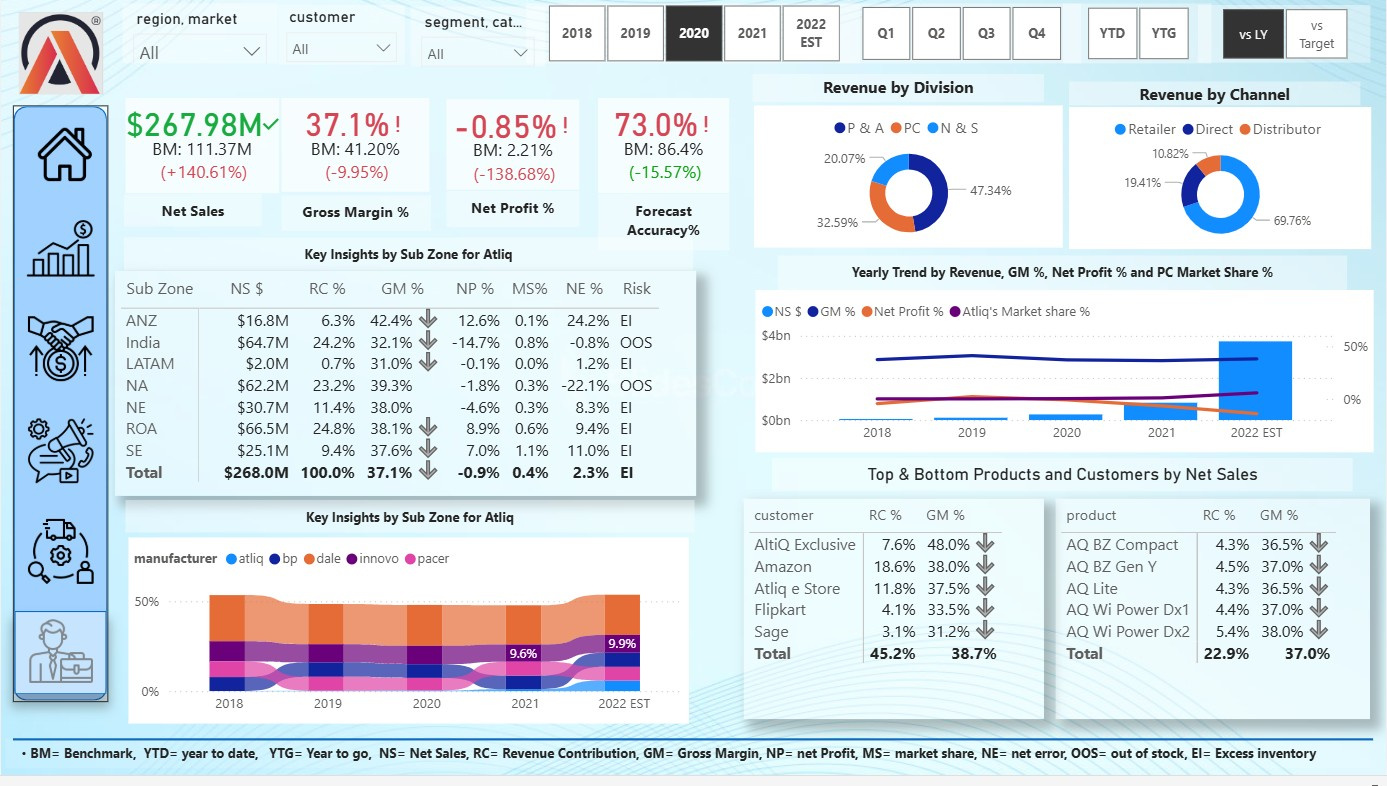

What the dashboard file says about the page in this screenshot:
{"tool":"powerbi","page":{"name":"Executive View","canvas":[1280,720],"ordinal":7},"visuals":[{"type":"pivotTable","fields":{"Rows":["sub_zone.sub_zone"],"Values":["Key Measures.NS $","Key Measures.RC %","Key Measures.GM %","Key Measures.Net Profit %","Key Measures.Atliq's Market share %","Key Measures.Net Error %","Key Measures.Risk"]},"box":[105.5,253.6,537.1,207.9],"z":0},{"type":"slicer","fields":{"Values":["fiscal_year.FY_description"]},"box":[485.1,6.3,308.7,55.1],"z":1000},{"type":"slicer","fields":{"Values":["dim_date.fy_quarter"]},"box":[774.9,6.3,223.7,55.1],"z":2000},{"type":"slicer","fields":{"Values":["dim_date.YTD_YTG"]},"box":[981.3,6.3,137,55.1],"z":3000},{"type":"pivotTable","fields":{"Rows":["dim_customer.customer"],"Values":["Key Measures.RC %","Key Measures.GM %"]},"box":[686.7,465,277.1,204.1],"z":4000},{"type":"pivotTable","fields":{"Rows":["dim_product.product"],"Values":["Key Measures.RC %","Key Measures.GM %"]},"box":[974.6,465,290.6,204.1],"z":5000},{"type":"slicer","fields":{"Values":["dim_market.region","dim_market.market"]},"box":[111.8,6.3,143.3,55.1],"z":6000},{"type":"slicer","fields":{"Values":["dim_product.segment","dim_product.category"]},"box":[378,9.5,124.4,55.1],"z":7000},{"type":"slicer","fields":{"Values":["dim_customer.customer"]},"box":[256.7,7.9,116.6,55.1],"z":8000},{"type":"card","fields":{"Values":["Key Measures.Top /Bottom n Title"]},"box":[712.9,427.3,536.7,30.4],"z":9000},{"type":"textbox","box":[113.4,223.7,526.1,29.9],"z":10000},{"type":"image","box":[11,9.5,88.2,86.6],"z":11000},{"type":"shape","box":[11,100.8,88.2,551.3],"z":12000},{"type":"image","box":[17.7,116.6,81.9,59.9],"z":13000},{"type":"image","box":[15.8,196.9,80.3,72.5],"z":14000},{"type":"image","box":[15.8,289.8,80.3,72.5],"z":15000},{"type":"image","box":[15.8,384.3,80.3,72.5],"z":16000},{"type":"image","box":[15.8,477.2,80.3,72.5],"z":17000},{"type":"image","box":[15.8,570.2,80.3,70.9],"z":18000},{"type":"shape","box":[12.2,569.1,85.1,77],"z":19000},{"type":"kpi","fields":{"TrendLine":["dim_date.fiscal_year"],"Indicator":["Key Measures.GM %"],"Goal":["Key Measures.GM % BM"]},"box":[259.5,94.6,136.5,86.5],"z":20000},{"type":"kpi","fields":{"TrendLine":["dim_date.fiscal_year"],"Indicator":["Key Measures.Net Profit %"],"Goal":["Key Measures.Net Profit % BM"]},"box":[411.1,96.1,122.9,83.5],"z":21000},{"type":"textbox","box":[113.4,182.7,127.6,29.9],"z":22000},{"type":"textbox","box":[411.1,179.6,122.9,33.1],"z":23000},{"type":"textbox","box":[259.5,183.8,137.9,32.4],"z":24000},{"type":"kpi","fields":{"Indicator":["Key Measures.NS $"],"TrendLine":["dim_date.fiscal_year"],"Goal":["Key Measures.NS $ BM"]},"box":[114.9,94.6,141.9,87.9],"z":25000},{"type":"slicer","fields":{"Values":["Set BM.Benchmarks"]},"box":[1105.7,7.9,159.1,53.6],"z":26000},{"type":"cardVisual","fields":{"Data":["Key Measures.BM blank message"]},"box":[168.1,66.8,388.9,32.4],"z":27000},{"type":"kpi","fields":{"TrendLine":["dim_date.fiscal_year"],"Indicator":["Key Measures.Forecast Accuracy %"],"Goal":["Key Measures.Forecast Accuracy % LY"]},"box":[551.3,94.5,121.3,88.2],"z":28000},{"type":"textbox","box":[551.3,182.7,121.3,52],"z":29000},{"type":"donutChart","fields":{"Category":["dim_product.division"],"Y":["Key Measures.NS $"]},"box":[695.9,100.9,285.6,131.6],"z":30000},{"type":"textbox","box":[693.9,72.6,269.4,26.3],"z":31000},{"type":"donutChart","fields":{"Category":["dim_customer.channel"],"Y":["Key Measures.NS $"]},"box":[987.6,102.9,279.5,131.6],"z":32000},{"type":"textbox","box":[987.6,78.6,269.4,22.3],"z":33000},{"type":"lineClusteredColumnComboChart","fields":{"Category":["fiscal_year.FY_description"],"Y":["Key Measures.NS $"],"Y2":["Key Measures.GM %","Key Measures.Net Profit %","Key Measures.Atliq's Market share %"]},"box":[696.7,271.4,571.1,149.9],"z":34000},{"type":"textbox","box":[718.2,239.4,526.1,33.1],"z":35000},{"type":"ribbonChart","fields":{"Category":["fiscal_year.FY_description"],"Y":["Key Measures.Market share %"],"Series":["marketshare.manufacturer"]},"box":[117.6,500.1,517.7,171.7],"z":36000},{"type":"textbox","box":[114.9,466.3,525.8,29.7],"z":37000},{"type":"textbox","box":[4.1,686.7,1261.2,27],"z":38000},{"type":"shape","box":[10.8,663.7,1257.1,46],"z":39000}]}

Visuals, with their boxes in screenshot pixels (x1, y1, x2, y2), scaled from the page's 1280x720 canvas onto the 1387x786 screenshot:
pivotTable - sub_zone.sub_zone x Key Measures.NS $: {"x1": 114, "y1": 277, "x2": 696, "y2": 504}
slicer - fiscal_year.FY_description: {"x1": 526, "y1": 7, "x2": 860, "y2": 67}
slicer - dim_date.fy_quarter: {"x1": 840, "y1": 7, "x2": 1082, "y2": 67}
slicer - dim_date.YTD_YTG: {"x1": 1063, "y1": 7, "x2": 1212, "y2": 67}
pivotTable - dim_customer.customer x Key Measures.RC %: {"x1": 744, "y1": 508, "x2": 1044, "y2": 730}
pivotTable - dim_product.product x Key Measures.RC %: {"x1": 1056, "y1": 508, "x2": 1371, "y2": 730}
slicer - dim_market.region x dim_market.market: {"x1": 121, "y1": 7, "x2": 276, "y2": 67}
slicer - dim_product.segment x dim_product.category: {"x1": 410, "y1": 10, "x2": 544, "y2": 71}
slicer - dim_customer.customer: {"x1": 278, "y1": 9, "x2": 405, "y2": 69}
card - Key Measures.Top /Bottom n Title: {"x1": 772, "y1": 466, "x2": 1354, "y2": 500}
textbox: {"x1": 123, "y1": 244, "x2": 693, "y2": 277}
image: {"x1": 12, "y1": 10, "x2": 107, "y2": 105}
shape: {"x1": 12, "y1": 110, "x2": 107, "y2": 712}
image: {"x1": 19, "y1": 127, "x2": 108, "y2": 193}
image: {"x1": 17, "y1": 215, "x2": 104, "y2": 294}
image: {"x1": 17, "y1": 316, "x2": 104, "y2": 396}
image: {"x1": 17, "y1": 420, "x2": 104, "y2": 499}
image: {"x1": 17, "y1": 521, "x2": 104, "y2": 600}
image: {"x1": 17, "y1": 622, "x2": 104, "y2": 700}
shape: {"x1": 13, "y1": 621, "x2": 105, "y2": 705}
kpi - dim_date.fiscal_year x Key Measures.GM %: {"x1": 281, "y1": 103, "x2": 429, "y2": 198}
kpi - dim_date.fiscal_year x Key Measures.Net Profit %: {"x1": 445, "y1": 105, "x2": 579, "y2": 196}
textbox: {"x1": 123, "y1": 199, "x2": 261, "y2": 232}
textbox: {"x1": 445, "y1": 196, "x2": 579, "y2": 232}
textbox: {"x1": 281, "y1": 201, "x2": 431, "y2": 236}
kpi - Key Measures.NS $ x dim_date.fiscal_year: {"x1": 125, "y1": 103, "x2": 278, "y2": 199}
slicer - Set BM.Benchmarks: {"x1": 1198, "y1": 9, "x2": 1371, "y2": 67}
cardVisual - Key Measures.BM blank message: {"x1": 182, "y1": 73, "x2": 604, "y2": 108}
kpi - dim_date.fiscal_year x Key Measures.Forecast Accuracy %: {"x1": 597, "y1": 103, "x2": 729, "y2": 199}
textbox: {"x1": 597, "y1": 199, "x2": 729, "y2": 256}
donutChart - dim_product.division x Key Measures.NS $: {"x1": 754, "y1": 110, "x2": 1064, "y2": 254}
textbox: {"x1": 752, "y1": 79, "x2": 1044, "y2": 108}
donutChart - dim_customer.channel x Key Measures.NS $: {"x1": 1070, "y1": 112, "x2": 1373, "y2": 256}
textbox: {"x1": 1070, "y1": 86, "x2": 1362, "y2": 110}
lineClusteredColumnComboChart - fiscal_year.FY_description x Key Measures.NS $: {"x1": 755, "y1": 296, "x2": 1374, "y2": 460}
textbox: {"x1": 778, "y1": 261, "x2": 1348, "y2": 297}
ribbonChart - fiscal_year.FY_description x Key Measures.Market share %: {"x1": 127, "y1": 546, "x2": 688, "y2": 733}
textbox: {"x1": 125, "y1": 509, "x2": 694, "y2": 541}
textbox: {"x1": 4, "y1": 750, "x2": 1371, "y2": 779}
shape: {"x1": 12, "y1": 725, "x2": 1374, "y2": 775}
